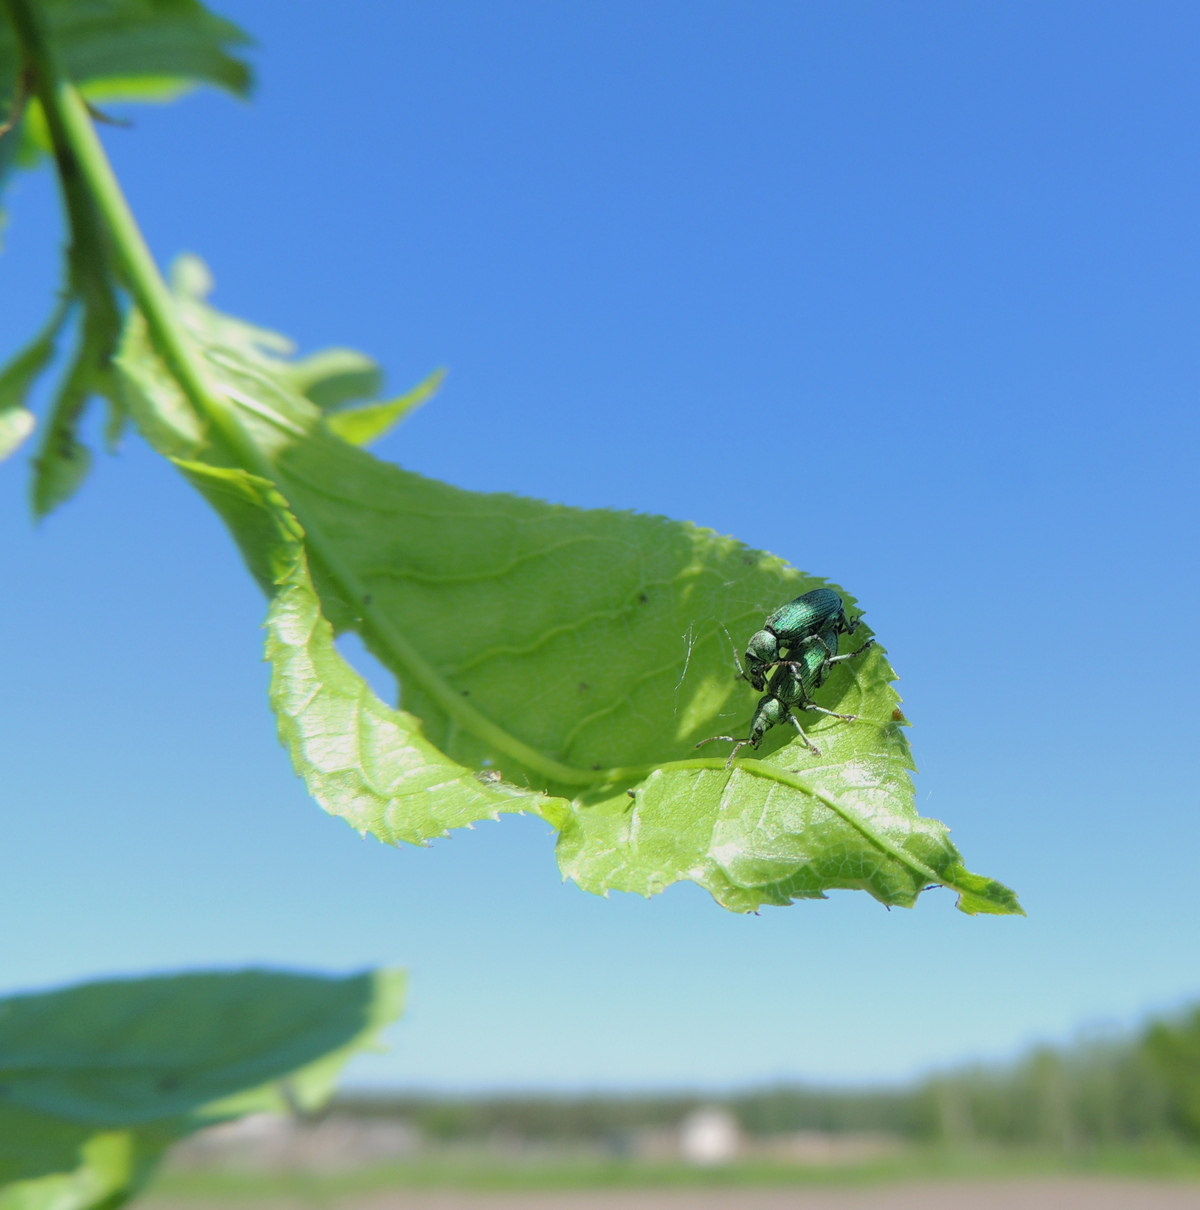dolgonosik: (698, 642, 884, 754), (723, 582, 856, 691)
